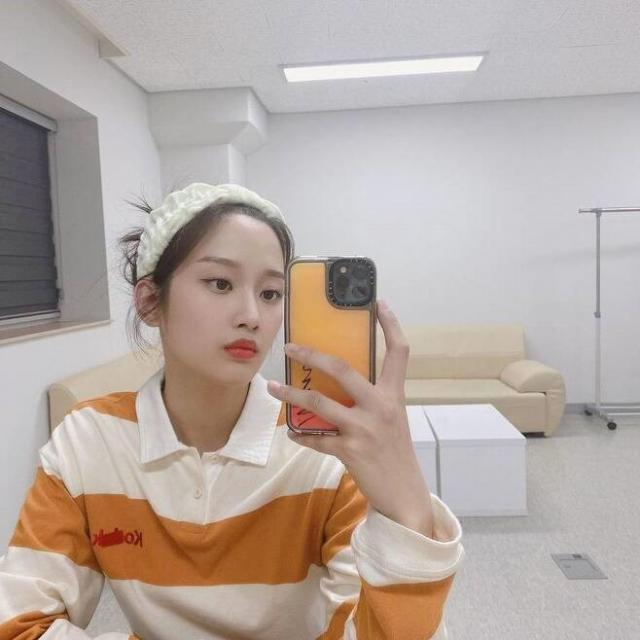phone: (284, 256, 377, 435)
